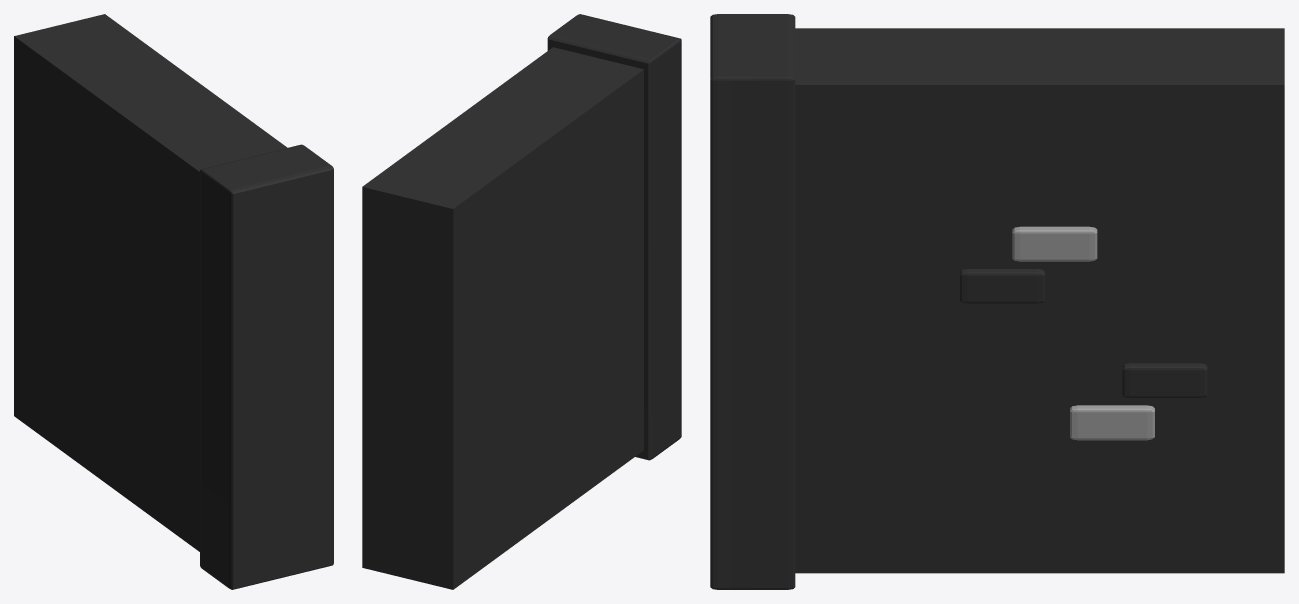
Rendered from reskined-wallpillarL1.fbx.
The picture shows the model from 3 angles, left to right: view 1: azimuth 30°, elevation 25°; view 2: azimuth 150°, elevation 25°; view 3: azimuth 270°, elevation 25°; orthographic projection. The views are drawn at different scales.
Parts seen in each view (by area): view 1: wallwPillar 1; view 2: wallwPillar 1; view 3: wallwPillar 1.
Boxes of the visible parts, x1,y1,x2,y2 form: wallwPillar 1: (14,14,333,589); wallwPillar 1: (362,14,681,589); wallwPillar 1: (710,14,1284,589).
Bounding box in the file's own units: 114 × 420 × 426.
